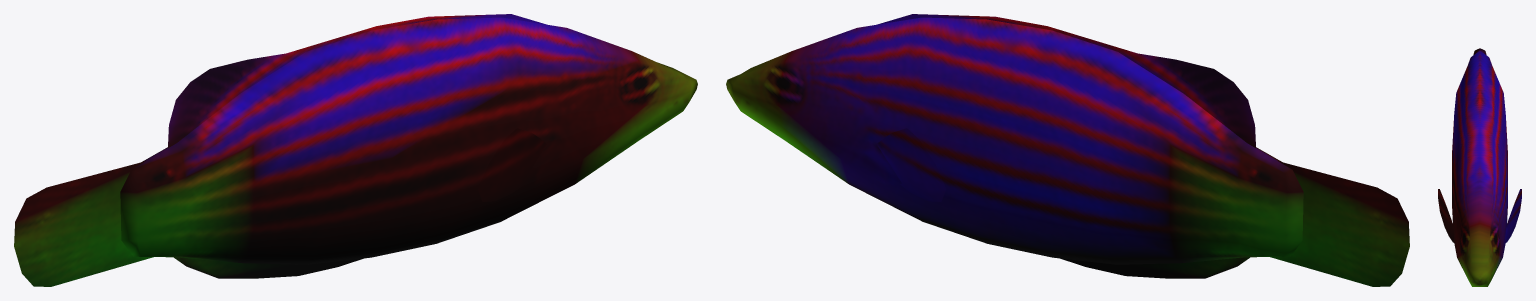
Rendered from six_line_wrasse.glb.
3 views of the same model, side by side, from view 1: azimuth 30°, elevation 25°; view 2: azimuth 150°, elevation 25°; view 3: azimuth 270°, elevation 25° (orthographic). The views are drawn at different scales.
Parts seen in each view (by area): view 1: SixLineWrasse; view 2: SixLineWrasse; view 3: SixLineWrasse.
Part boxes in pixels (x1,y1,x2,y2): SixLineWrasse: [14, 14, 697, 286]; SixLineWrasse: [726, 14, 1409, 286]; SixLineWrasse: [1438, 48, 1521, 286].
Bounding box in the file's own units: 1 × 0.3246 × 0.1502.
Materials: 1 (1 with a texture image).
